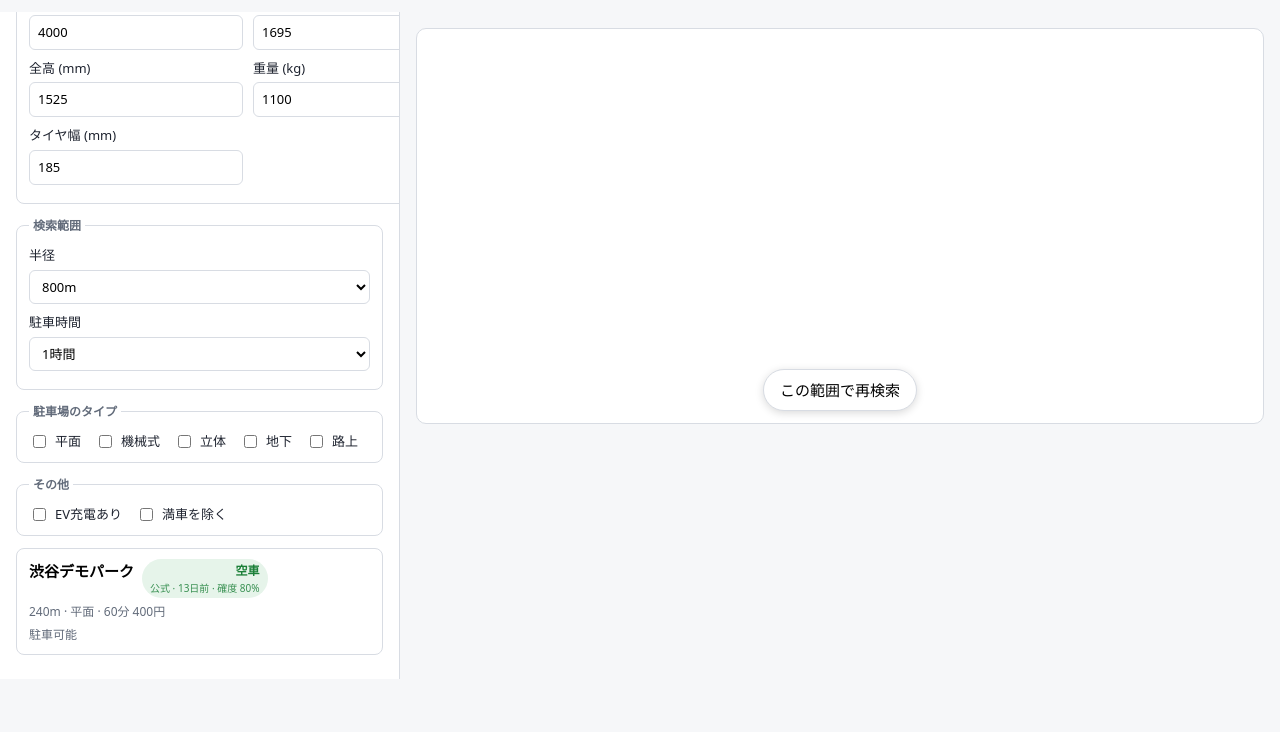
ParkingExplorer › asks a signed-out visitor to sign in before reporting
The width and height of the screenshot is (1280, 732).
(page scrolled)
Click the button "渋谷デモパーク 空車 公式 · 13日前 · 確度 80% 240m · 平面 · 60分 400円 駐車可能" at (82, 571), box top-left (16, 548), bottom-right (383, 655)
(page scrolled)
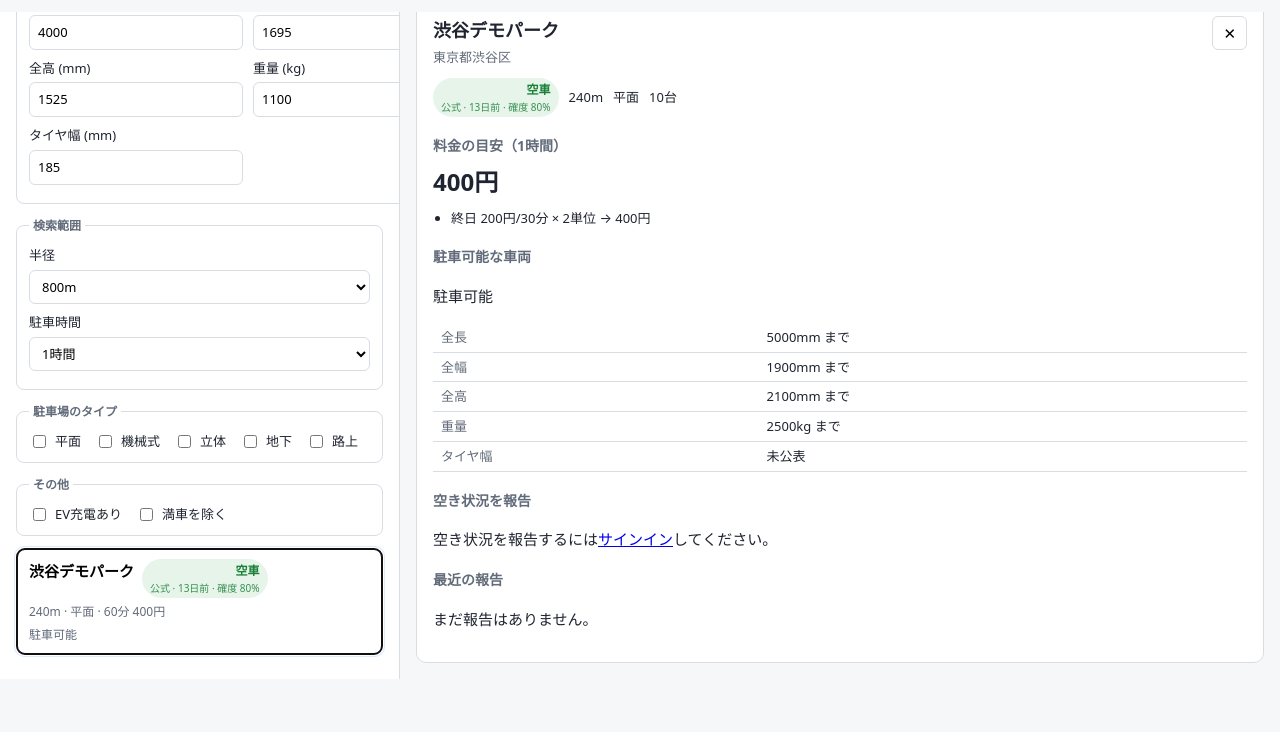
Check: the link "サインイン" is shown, box top-left (598, 529), bottom-right (673, 549)
